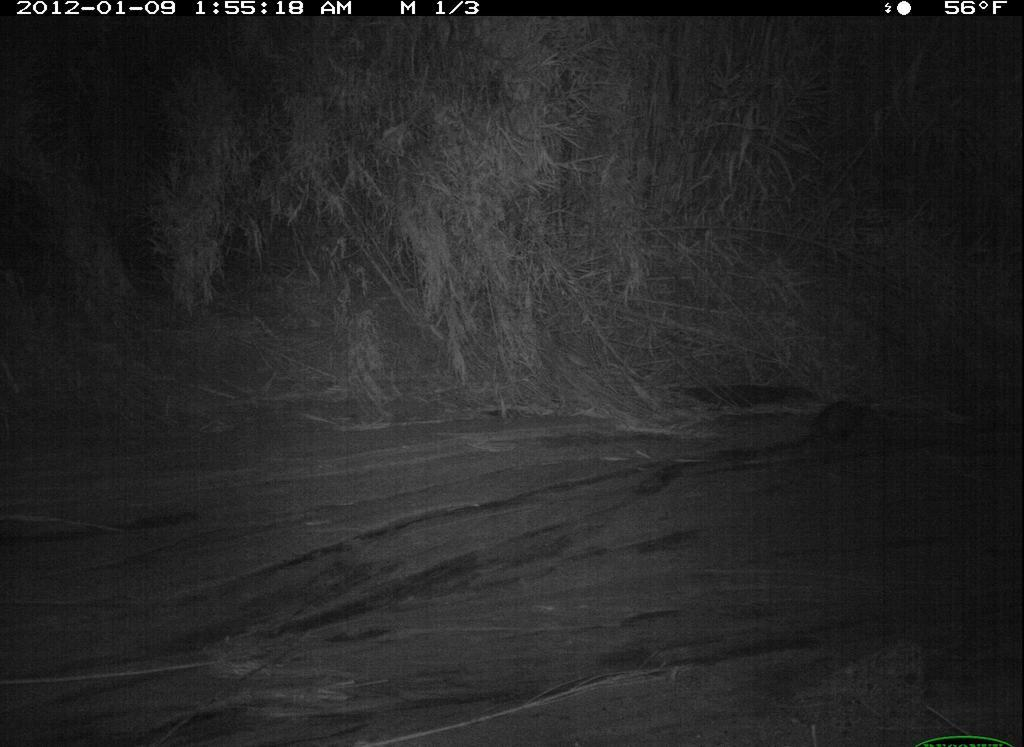opossum: (798, 390, 877, 459)
